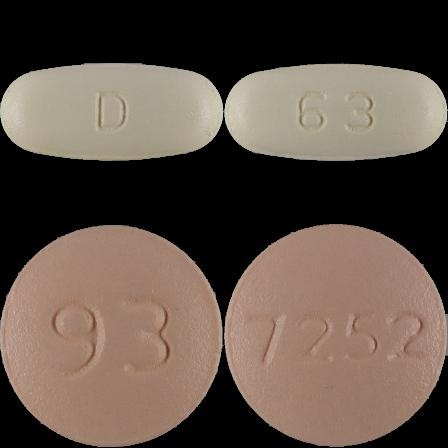63187-625: (0, 0, 224, 224)
